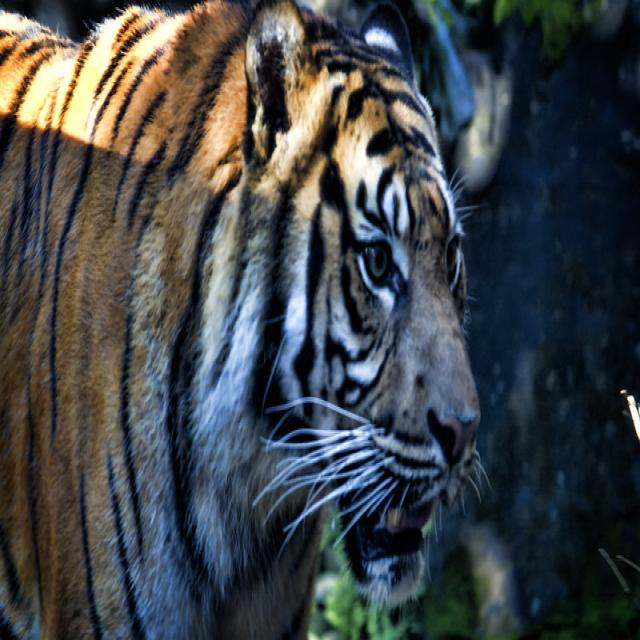Tiger: (0, 1, 482, 633)
